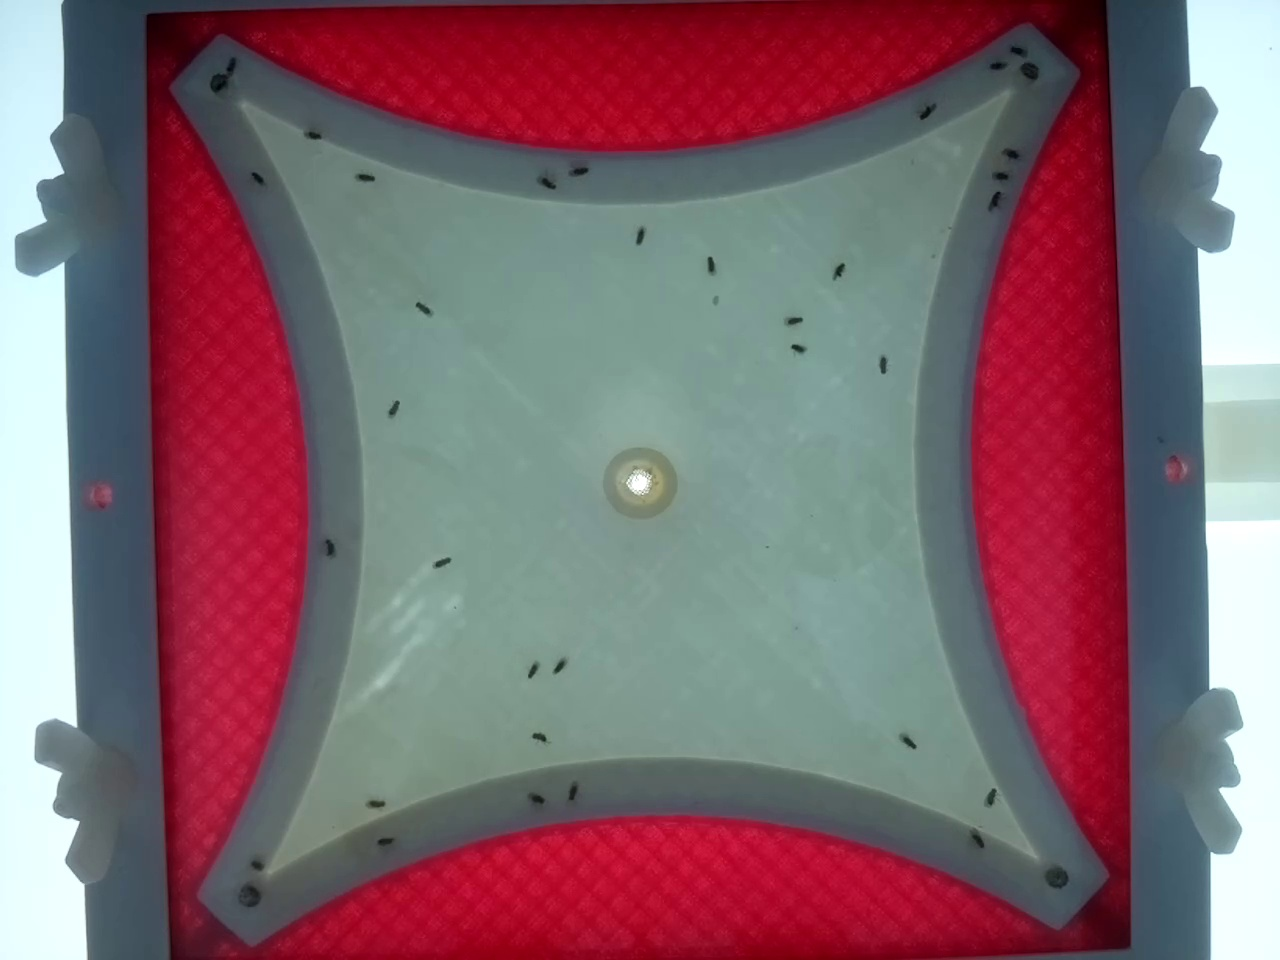fly: (913, 100, 938, 125), (998, 141, 1023, 166), (625, 228, 650, 253), (780, 308, 805, 333), (982, 187, 1007, 212), (784, 335, 809, 360), (870, 350, 895, 375), (602, 448, 627, 473), (527, 724, 552, 749), (895, 728, 920, 753), (362, 791, 387, 816), (978, 784, 1003, 809), (965, 827, 990, 852), (243, 851, 268, 876), (372, 828, 397, 853), (523, 785, 548, 810), (245, 165, 270, 190), (300, 122, 325, 147), (534, 170, 559, 195), (220, 53, 245, 78), (825, 257, 850, 282), (980, 54, 1005, 79), (698, 252, 723, 277), (411, 296, 436, 321), (1003, 38, 1028, 63), (987, 163, 1012, 188), (351, 164, 376, 189), (381, 396, 406, 421), (429, 549, 454, 574), (520, 657, 545, 682), (544, 657, 569, 682), (566, 159, 591, 184), (316, 534, 341, 559), (560, 779, 585, 804)
